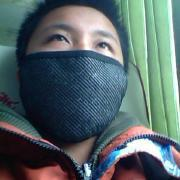OK: (22, 28, 128, 134)
